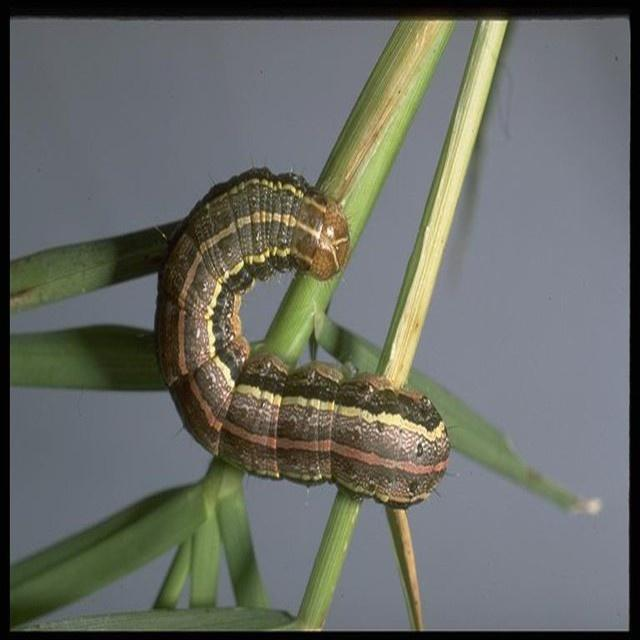Plaga: (164, 171, 461, 503)
